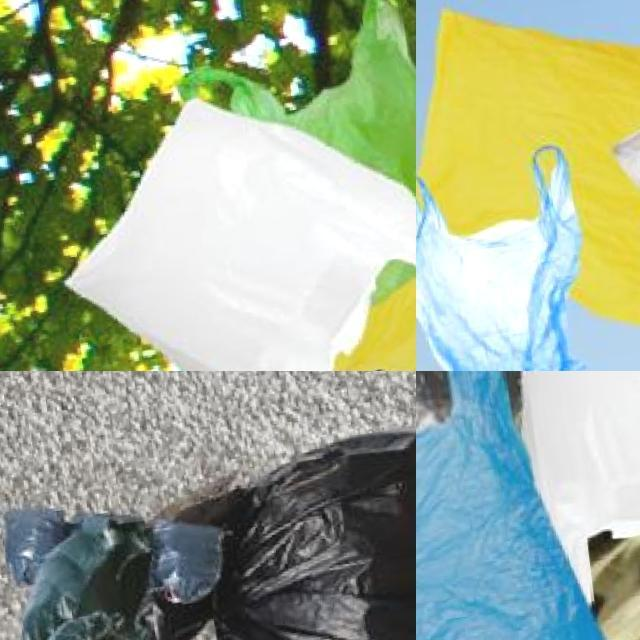waste: (48, 73, 416, 371), (416, 0, 640, 371), (152, 0, 416, 307), (416, 371, 619, 640), (213, 419, 416, 640), (416, 147, 603, 371), (507, 371, 640, 625), (3, 496, 150, 624), (331, 168, 416, 371), (147, 512, 235, 612), (18, 606, 177, 640)
